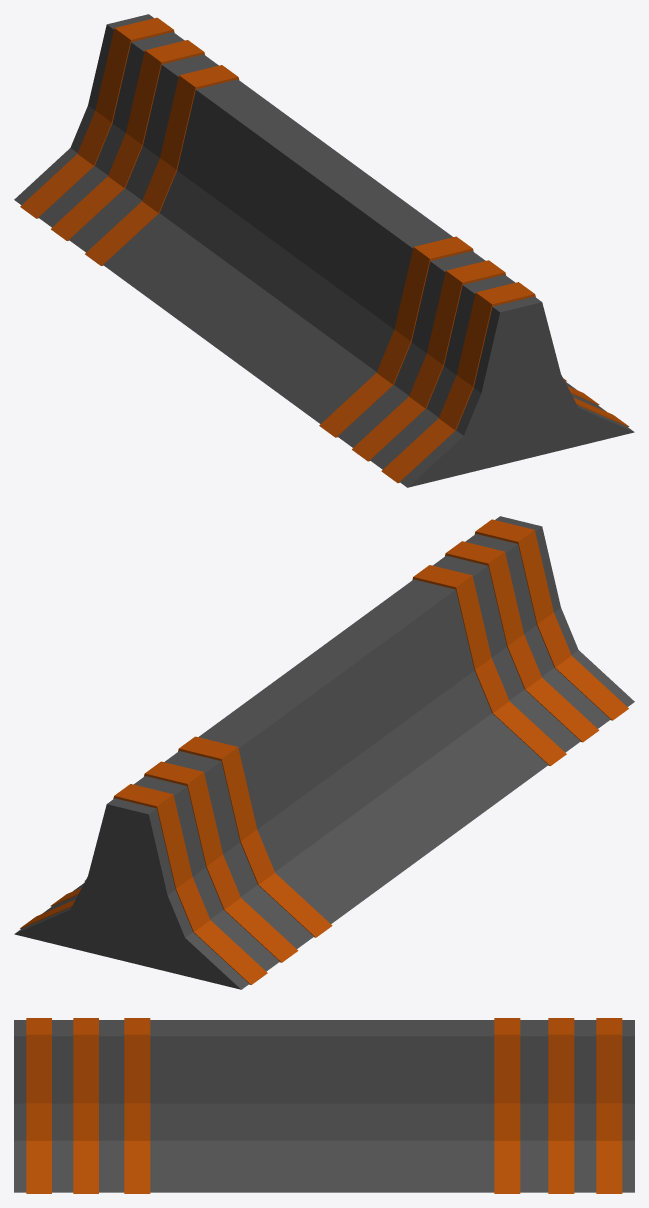
File: Barrier.fbx
3 renders of one model, top to bottom at view 1: azimuth 30°, elevation 25°; view 2: azimuth 150°, elevation 25°; view 3: azimuth 270°, elevation 25°, orthographic. The views are drawn at different scales.
Parts seen in each view (by area): view 1: Cube, Cube.001, Cube.002, Cube.003, Cube.012, Cube.011, Cube.010; view 2: Cube, Cube.012, Cube.011, Cube.010, Cube.001, Cube.002, Cube.003; view 3: Cube, Cube.003, Cube.010, Cube.011, Cube.012, Cube.001, Cube.002.
Boxes of the visible parts, x1,y1,x2,y2 form: Cube: (14,14,634,487); Cube.001: (381,282,629,483); Cube.002: (352,260,599,461); Cube.003: (319,236,566,437); Cube.012: (20,17,174,218); Cube.011: (51,40,204,240); Cube.010: (85,65,239,265); Cube: (14,516,634,989); Cube.012: (20,784,267,984); Cube.011: (50,761,298,962); Cube.010: (84,736,332,937); Cube.001: (474,519,628,720); Cube.002: (445,541,599,742); Cube.003: (412,565,566,765); Cube: (14,1020,634,1192); Cube.003: (124,1018,150,1193); Cube.010: (494,1018,520,1193); Cube.011: (548,1018,574,1193); Cube.012: (596,1018,622,1193); Cube.001: (26,1018,51,1193); Cube.002: (73,1018,98,1193).
Size of the model in its own units: 204 by 131 by 599.
